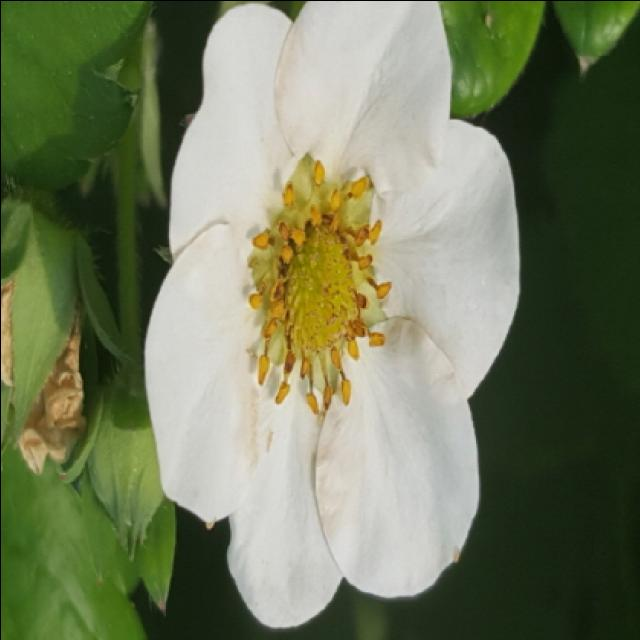Blossom Blight: (242, 159, 394, 417)
